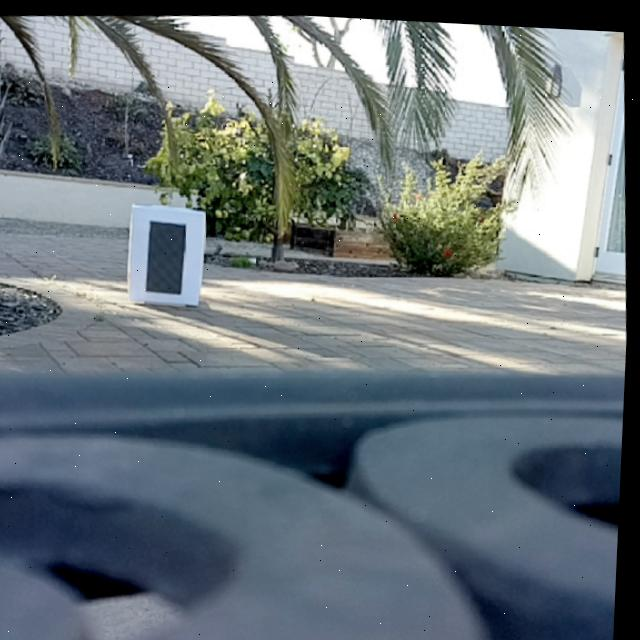led: (145, 217, 192, 296)
